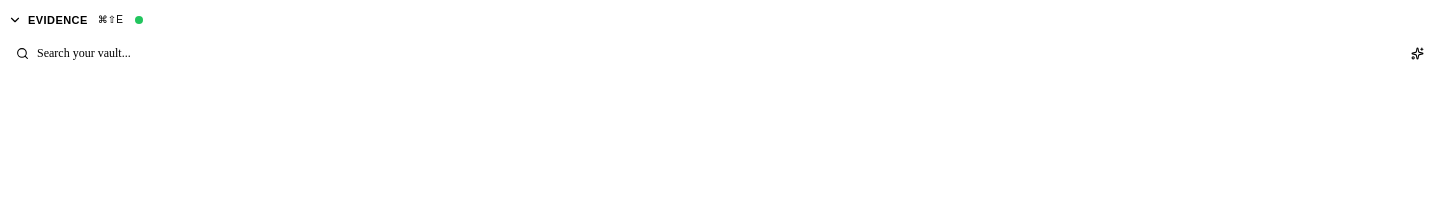
Test: EvidenceRail › clears results and collapses on Escape in search input
In the field with class "search-input": (712, 54) [35,45,1389,62], type "test"
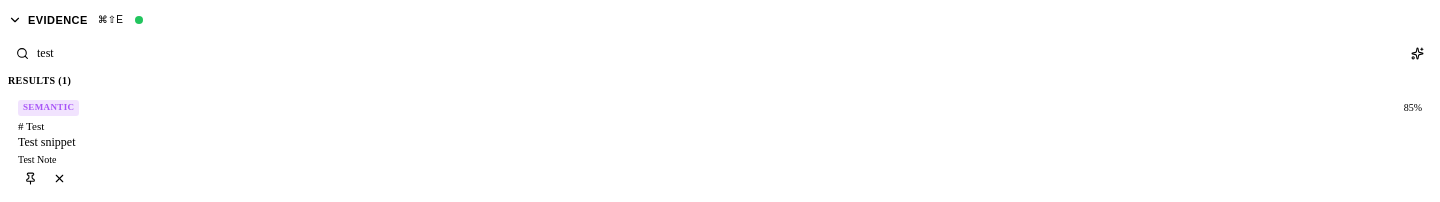
# Press Escape
Press Escape in the field with class "search-input", box [35,45,1389,62]
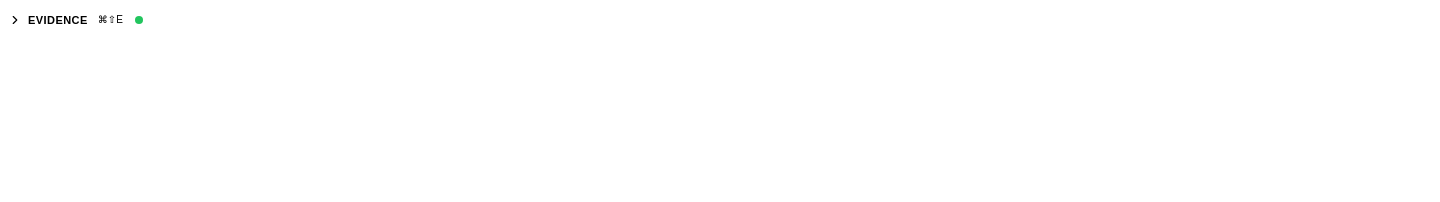
Now the element with class "rail-content" is gone
